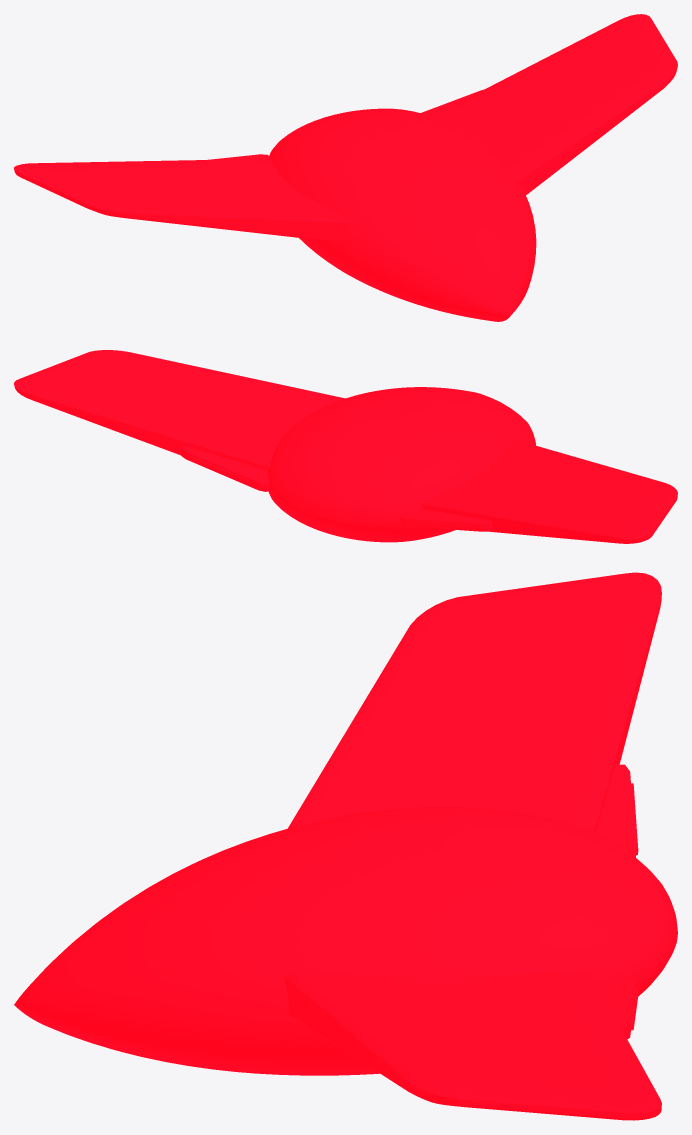
Rendered from Ship02Collider.fbx.
3 renders of one model, top to bottom at view 1: azimuth 30°, elevation 25°; view 2: azimuth 150°, elevation 25°; view 3: azimuth 270°, elevation 25°, orthographic. The views are drawn at different scales.
Parts seen in each view (by area): view 1: Ship02ColliderMesh; view 2: Ship02ColliderMesh; view 3: Ship02ColliderMesh.
Boxes of the visible parts, bbox=[...] form: Ship02ColliderMesh: bbox=[14, 14, 677, 321]; Ship02ColliderMesh: bbox=[14, 350, 677, 543]; Ship02ColliderMesh: bbox=[14, 572, 677, 1120].
Bounding box in the file's own units: 271 × 48.97 × 141.
